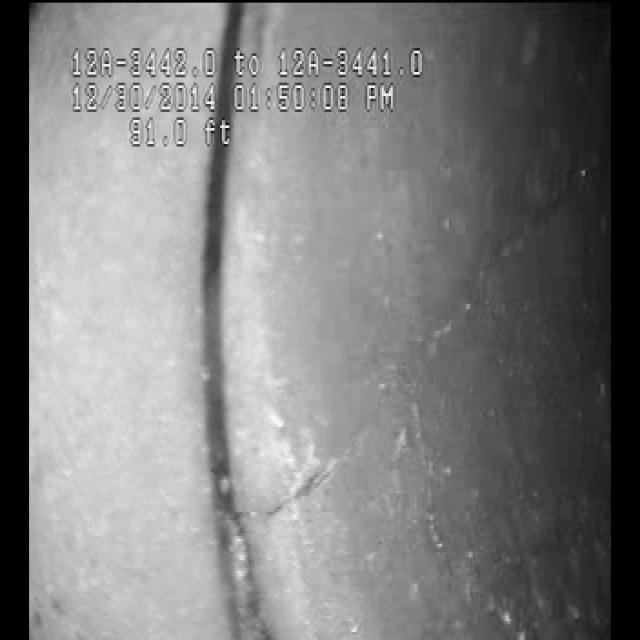Crack: (299, 186, 491, 534)
